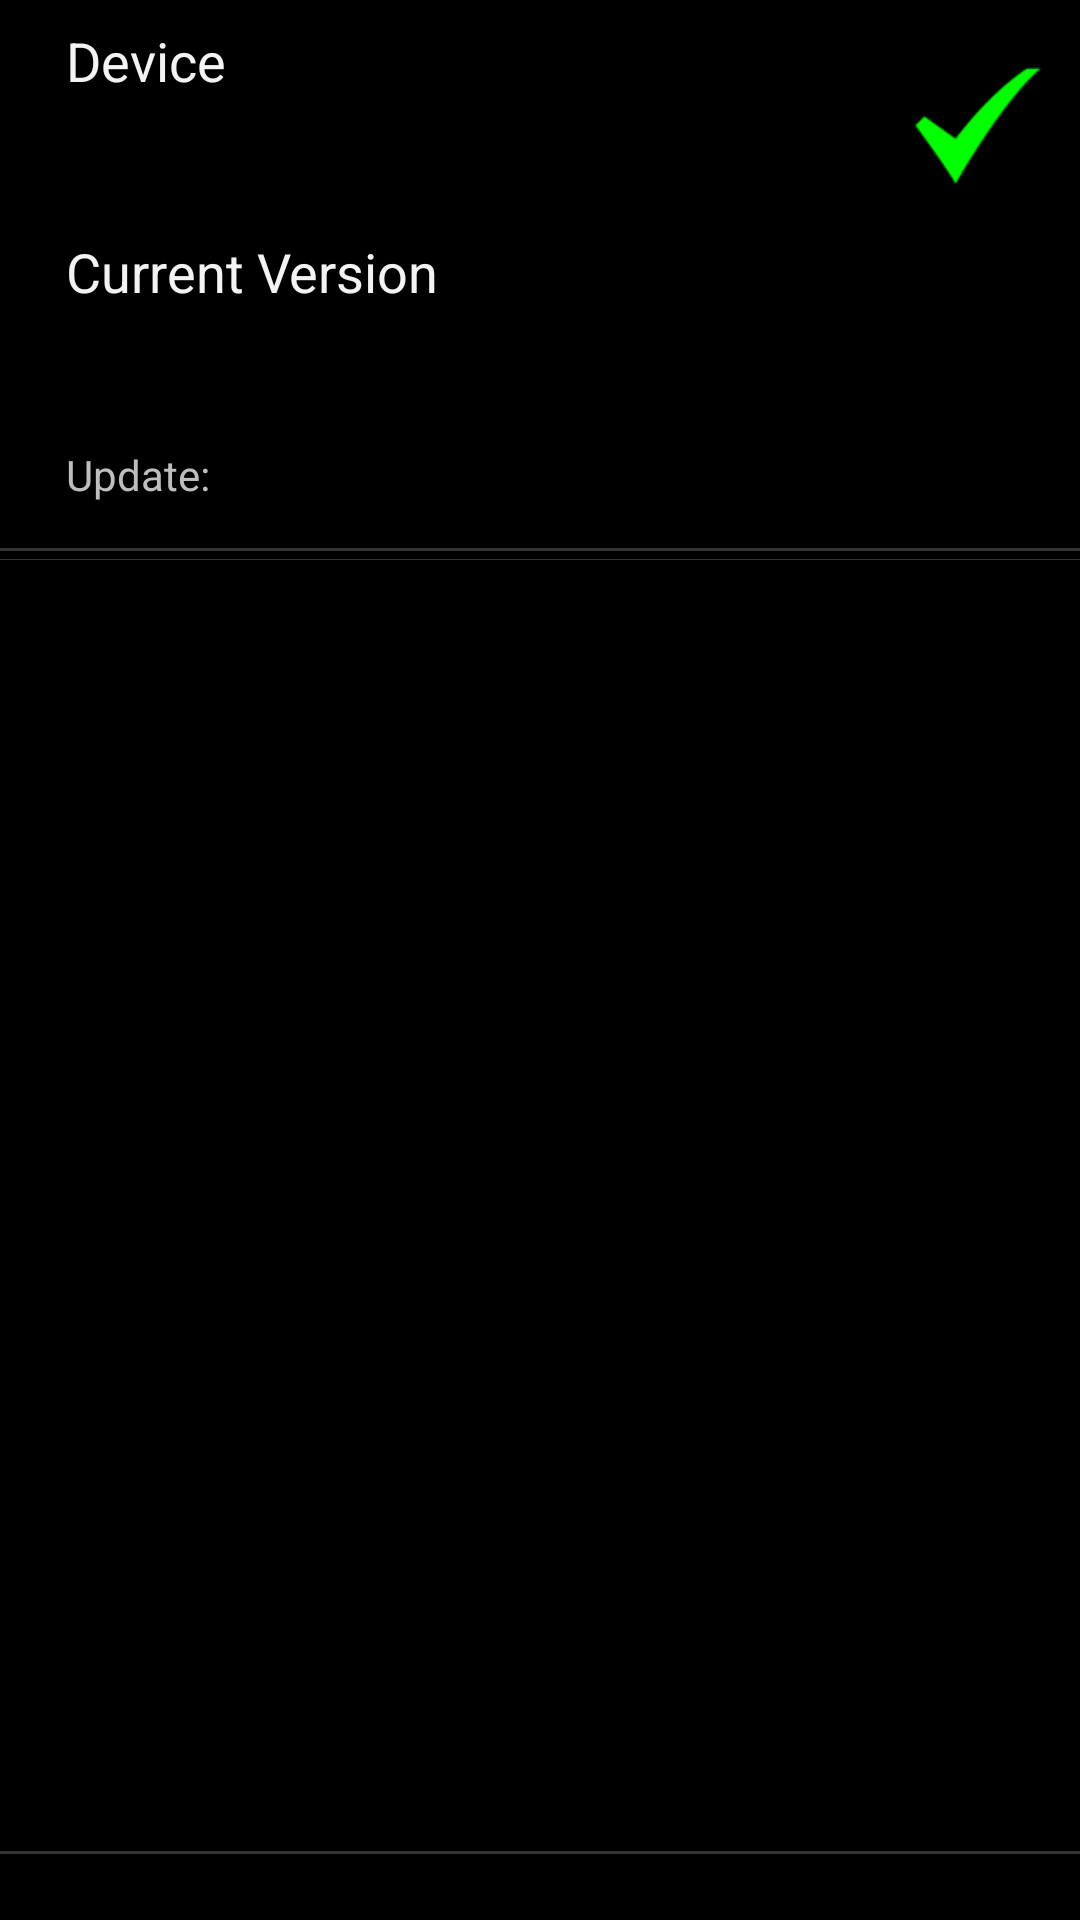

Screen size 1080px x 1920px. Icon name, then its center in pixels as (x=x, y=y):
uptodate: (x=978, y=125)
